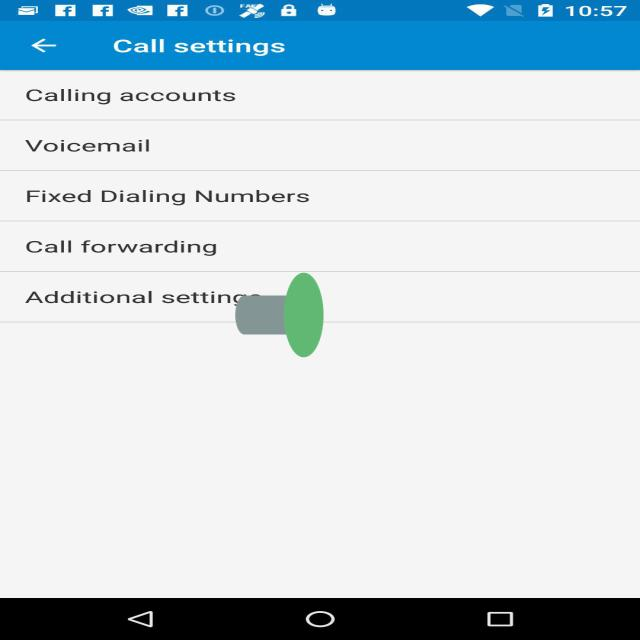social proof: (235, 221, 324, 409)
